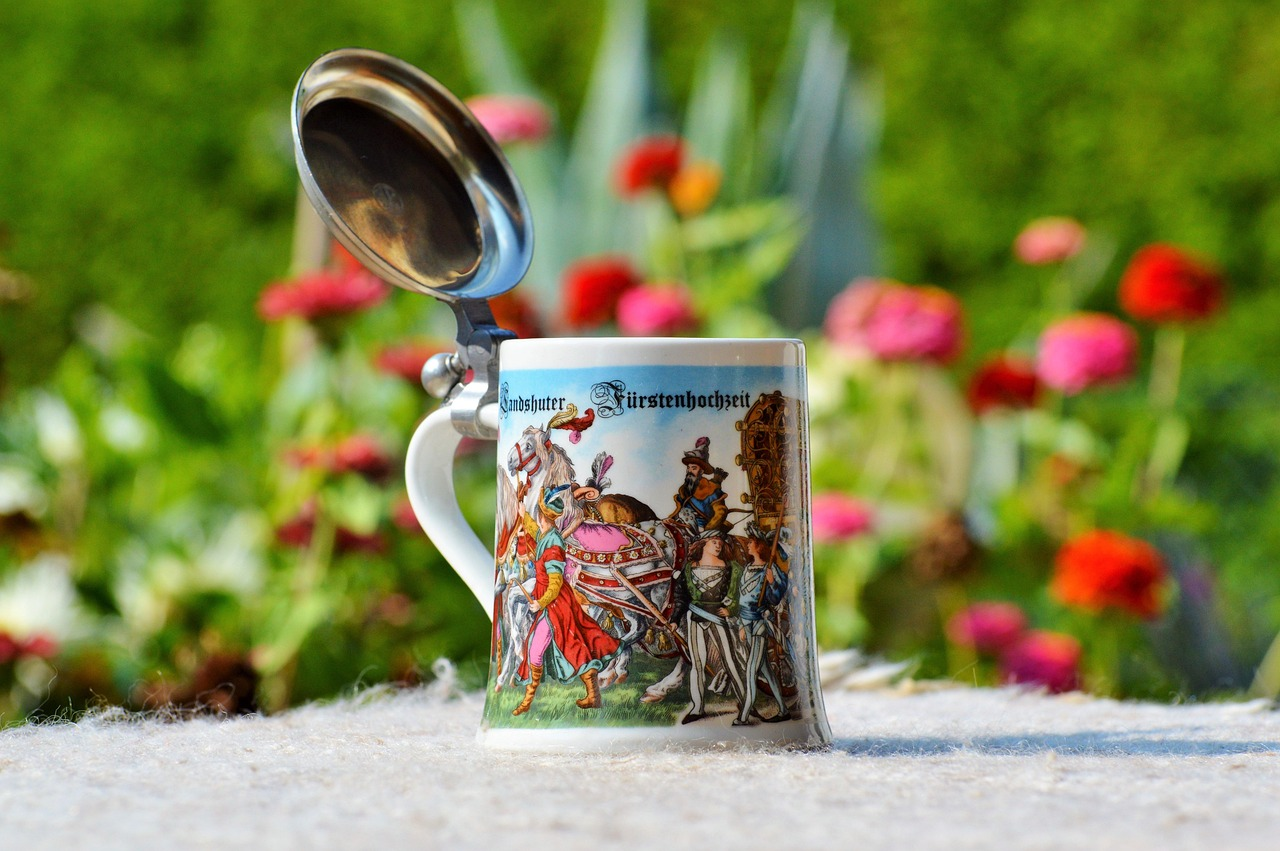mug: (335, 297, 883, 768)
